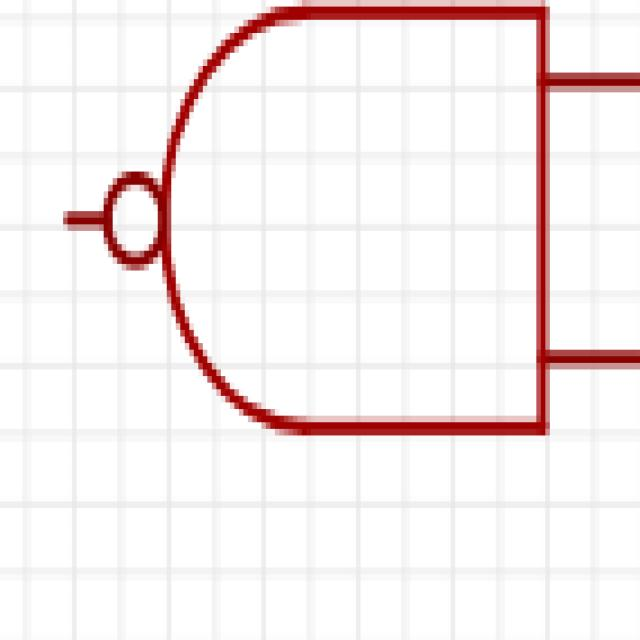nand: (57, 2, 640, 454)
